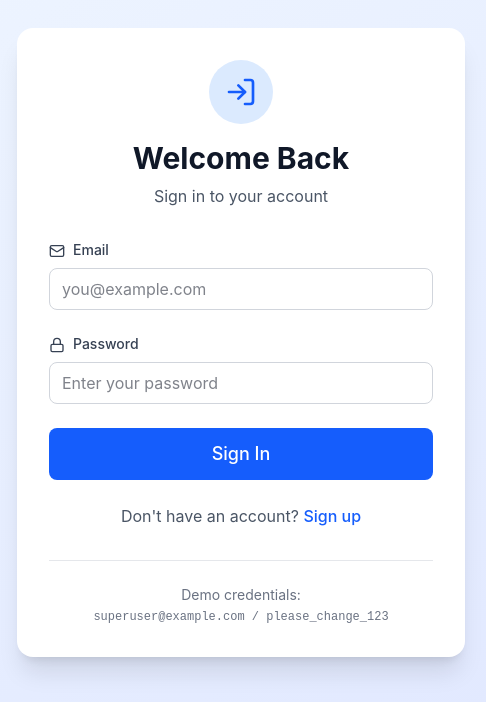
Test: LoginPage › shows validation error for short password
This screenshot has width=486, height=702.
In the field with placeholder "you@example.com": (241, 288) x1=49 y1=268 x2=433 y2=310, type "test@example.com"
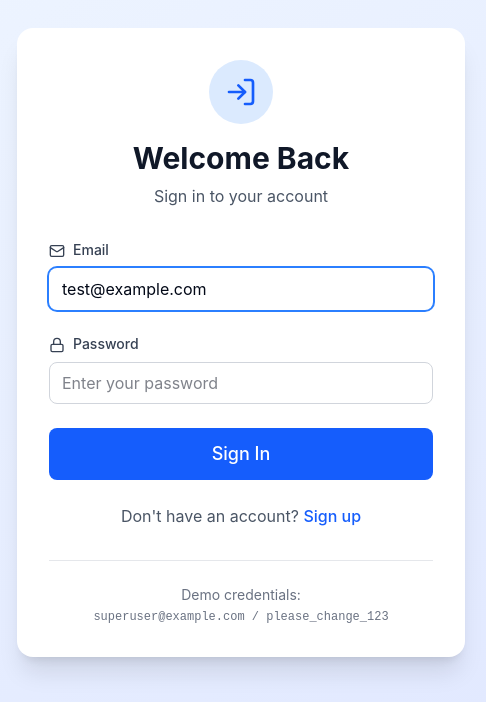
In the password field with placeholder "Enter your password": (241, 382) x1=49 y1=362 x2=433 y2=404, type "123"
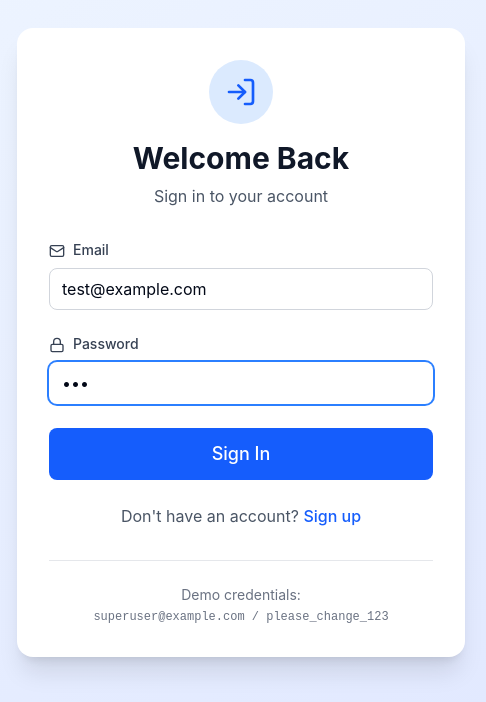
Click the button "Sign In": (241, 454) x1=49 y1=428 x2=433 y2=480
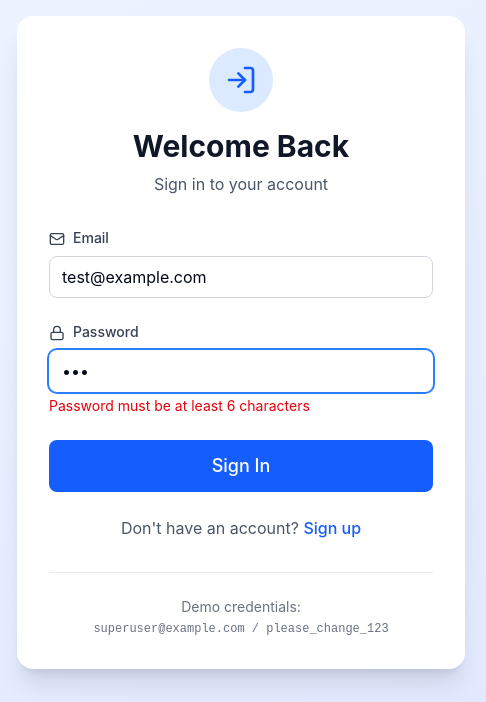
Now the text "Password must be at least 6 characters" is shown, box x1=49 y1=396 x2=310 y2=414
